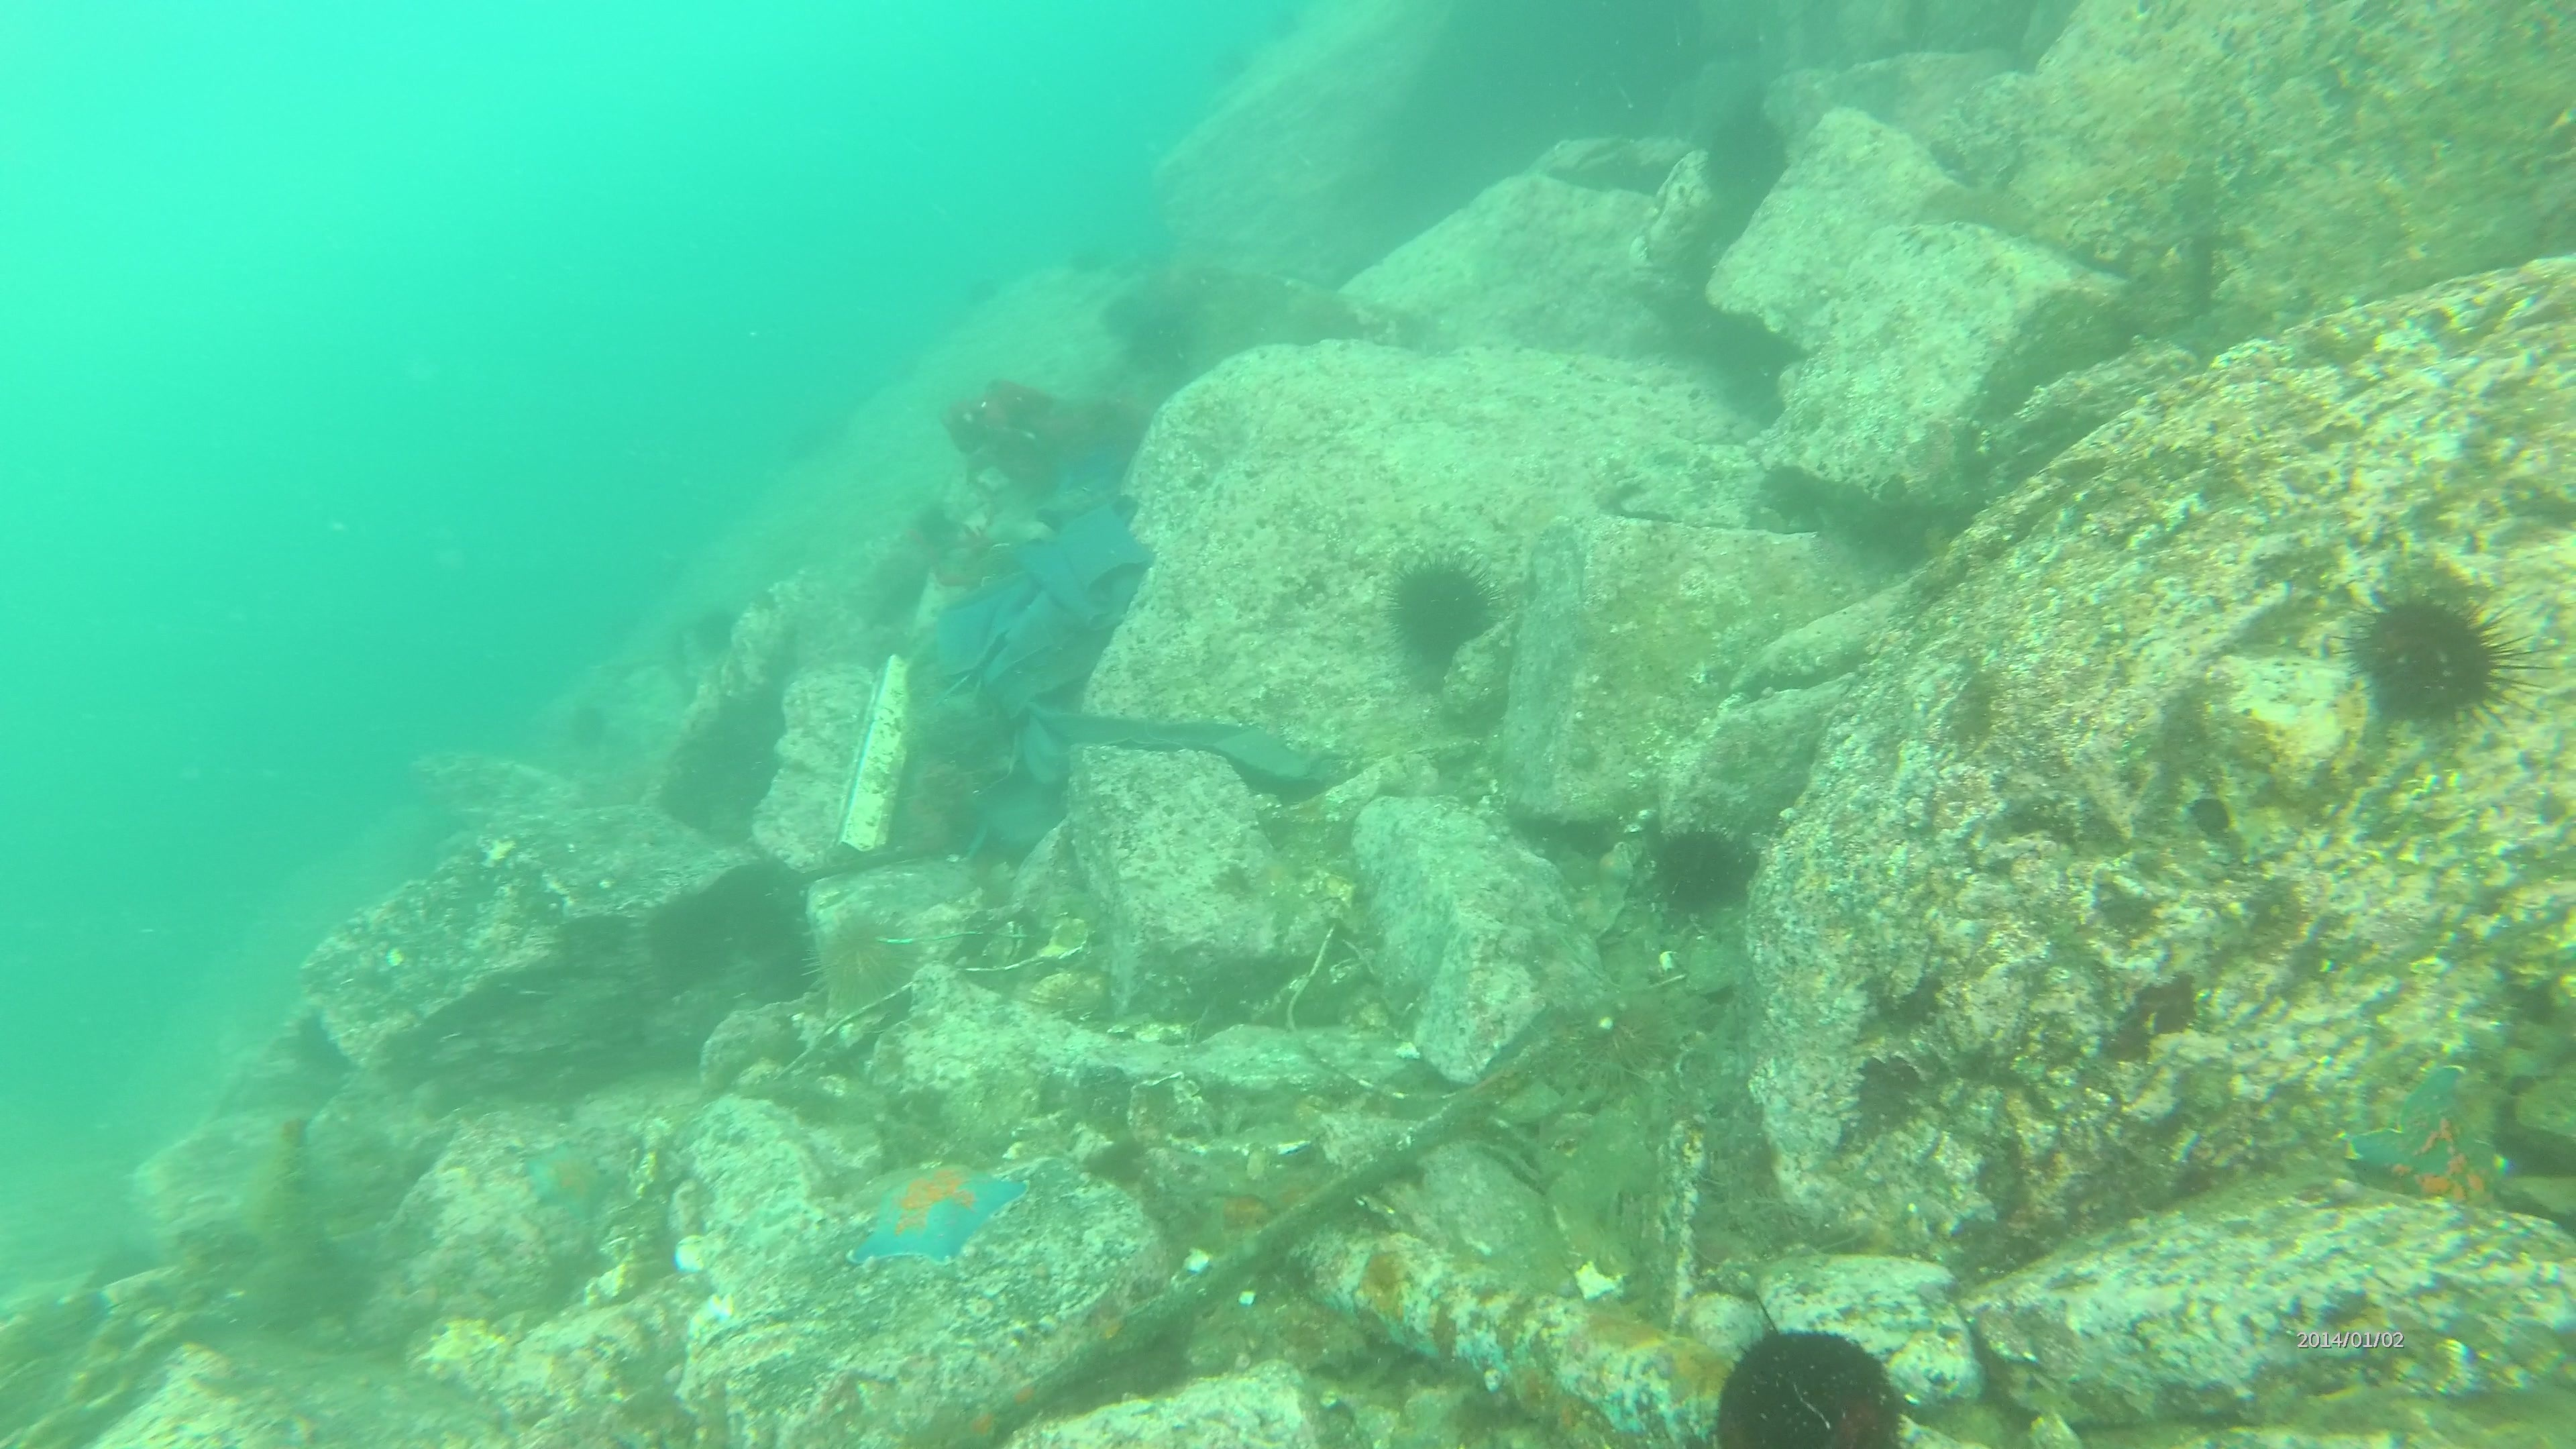echinus: (2346, 577, 2542, 738), (1713, 1316, 1918, 1449), (1376, 552, 1507, 669), (1645, 814, 1762, 918), (619, 885, 732, 991), (805, 908, 924, 1003), (1571, 987, 1668, 1081), (1185, 35, 1274, 101), (676, 609, 764, 674), (777, 387, 863, 453), (1251, 0, 1339, 64), (1035, 226, 1123, 290), (927, 255, 1016, 318), (538, 899, 626, 962)
scallop: (1024, 970, 1122, 1024)
starfish: (2344, 1060, 2532, 1214), (855, 1157, 1030, 1267), (520, 1136, 617, 1217)
